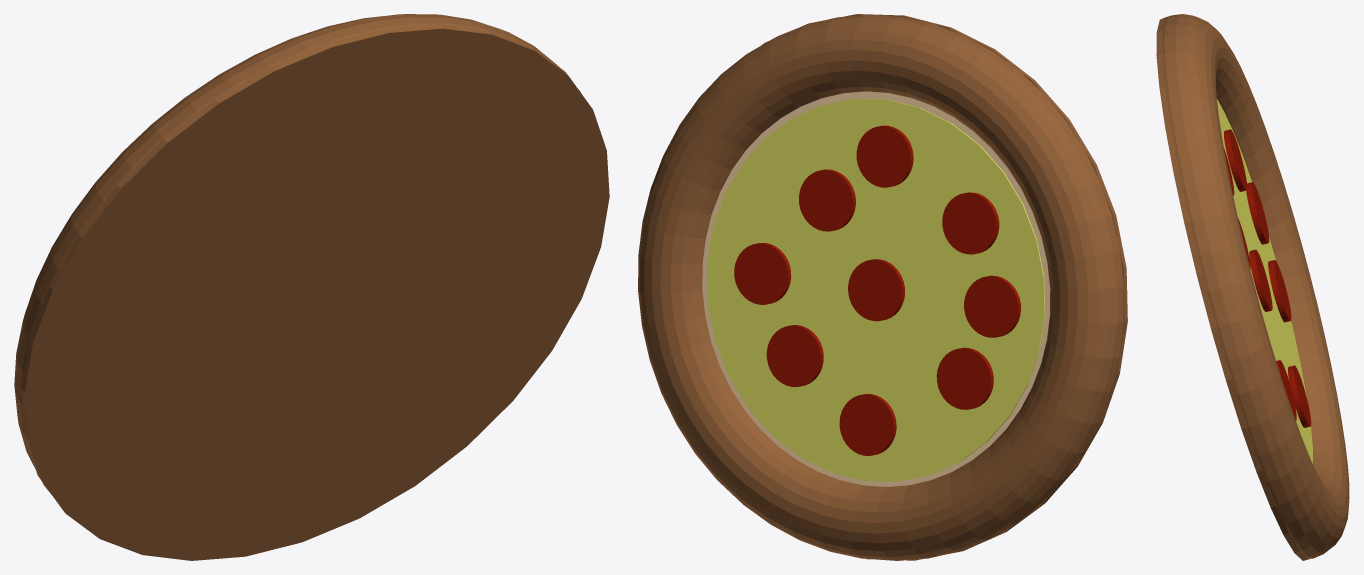
Rendered from food_3_pizza.fbx.
3 views of the same model, side by side, from view 1: azimuth 30°, elevation 25°; view 2: azimuth 150°, elevation 25°; view 3: azimuth 270°, elevation 25° (orthographic). The views are drawn at different scales.
Parts seen in each view (by area): view 1: food_pizza; view 2: food_pizza; view 3: food_pizza.
Part boxes in pixels (box(x1,y1,x2,y2)): food_pizza: box(14, 14, 609, 560); food_pizza: box(638, 14, 1127, 560); food_pizza: box(1156, 14, 1349, 560).
Bounding box in the file's own units: 119 × 116 × 41.09.
